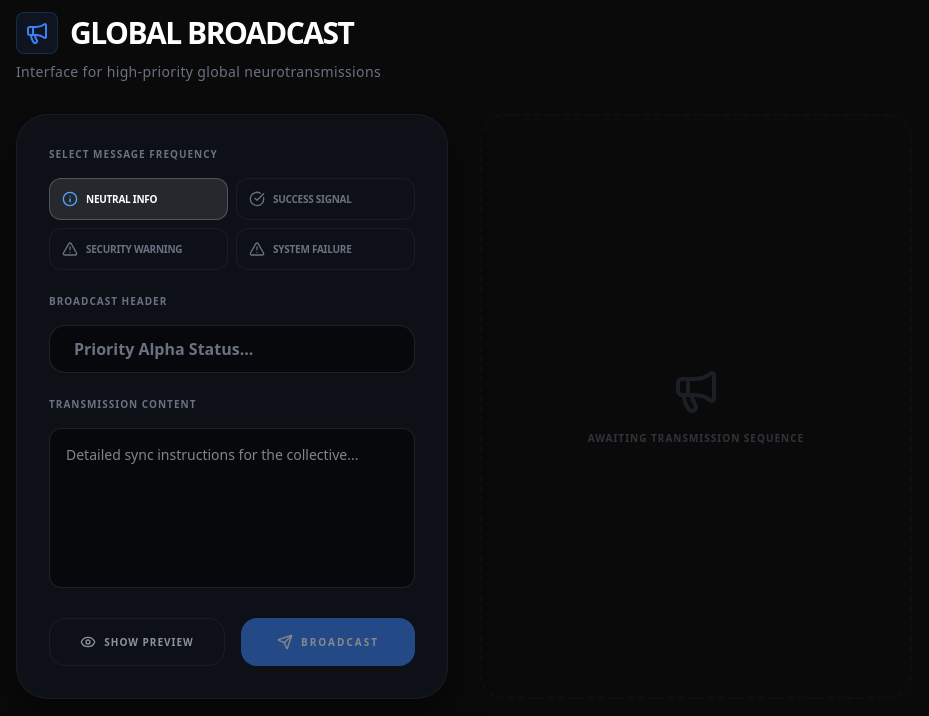
Test: Admin Dashboard UI Tests › AdminBroadcast › handles broadcast preview toggle
Click the button "Show Preview": (137, 642) [49, 618, 225, 666]
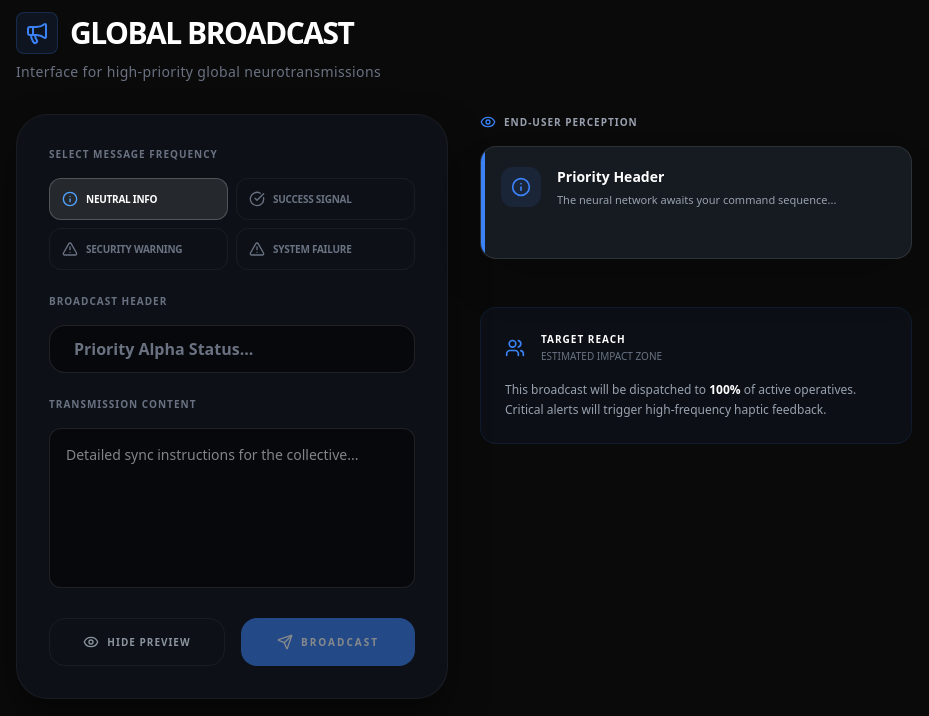
Result: the text "End-User Perception" is shown at [504, 114, 638, 130]
